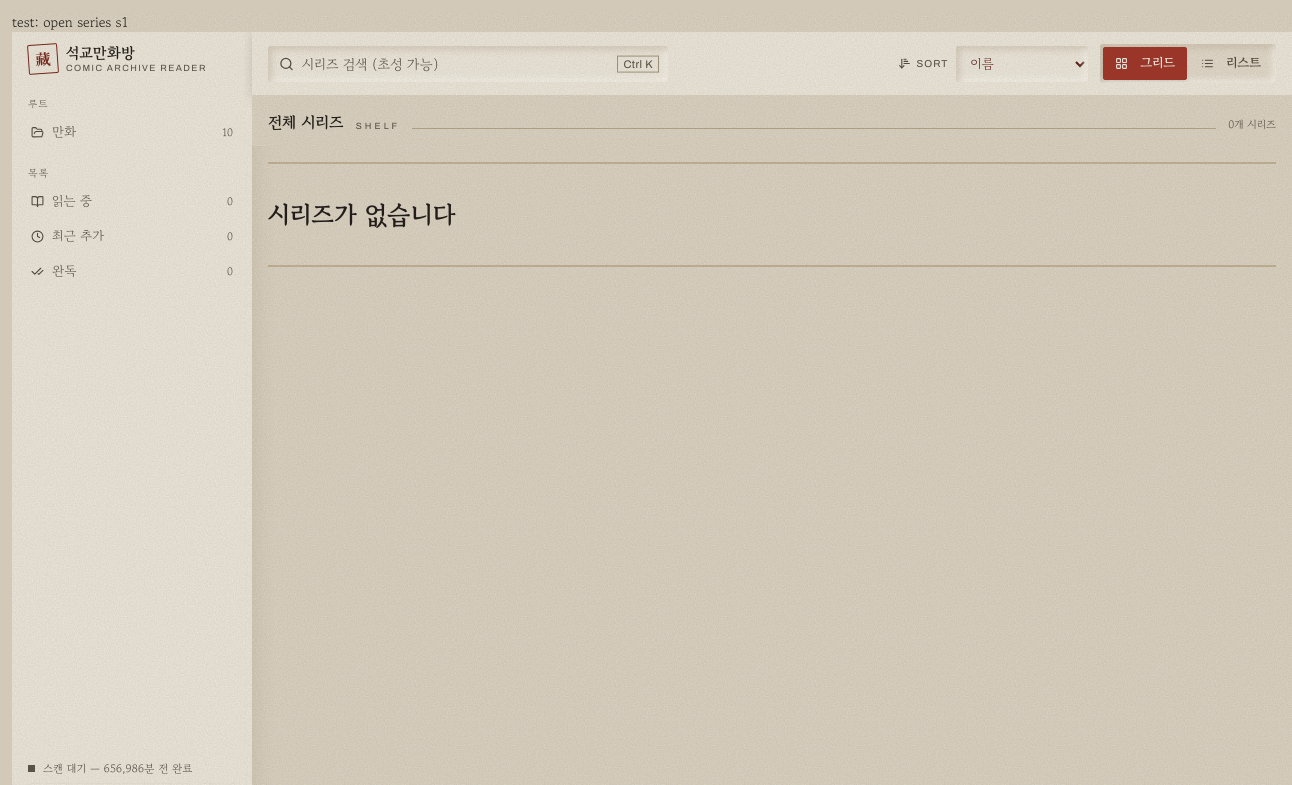
library preferences changed off the library screen (A-5 write-back) › lands on the library scoped to a sidebar root picked on a series screen, and writes it back
This screenshot has width=1292, height=785.
Click the link "test: open series s1".
click(70, 22)  # box x1=12 y1=12 x2=128 y2=32
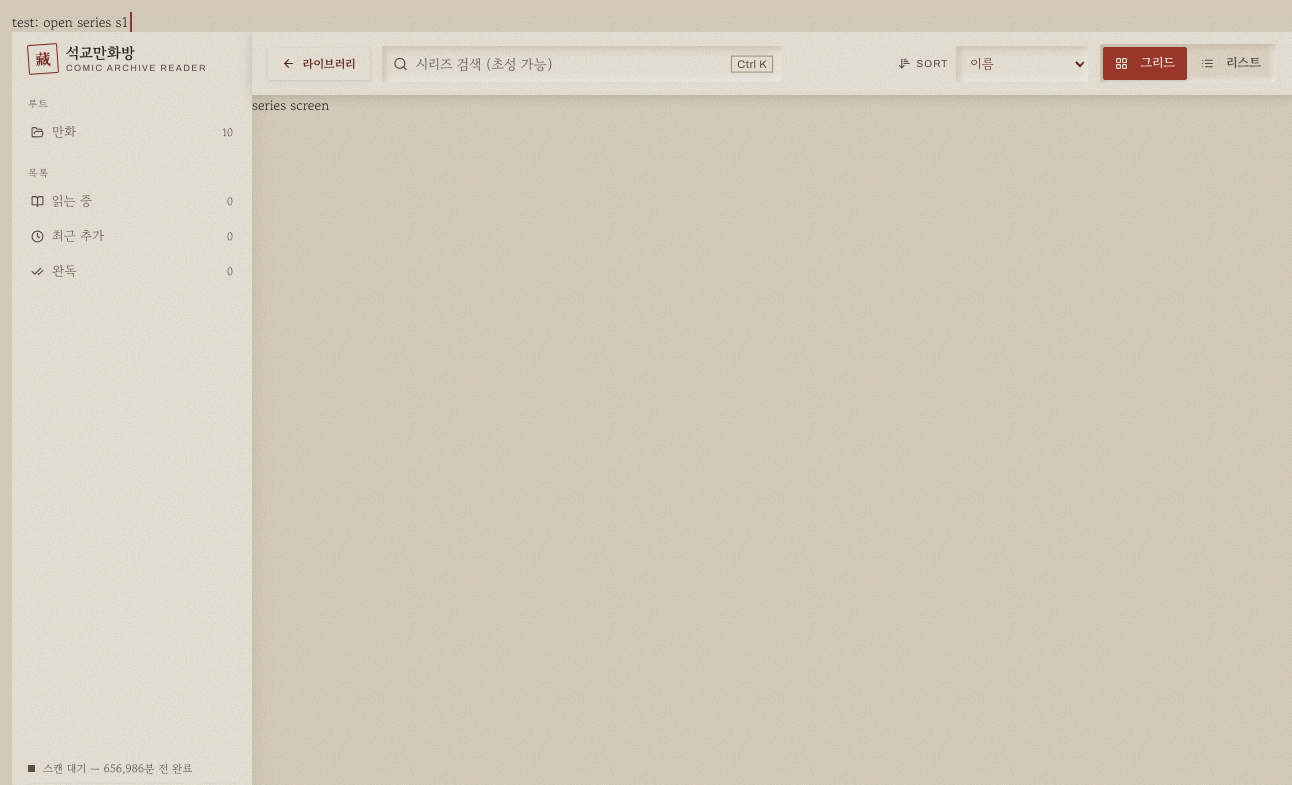
Expected: the text "series screen" is shown, x1=252 y1=95 x2=329 y2=115
Click the button "만화 10".
click(132, 133)  # box x1=20 y1=116 x2=244 y2=149
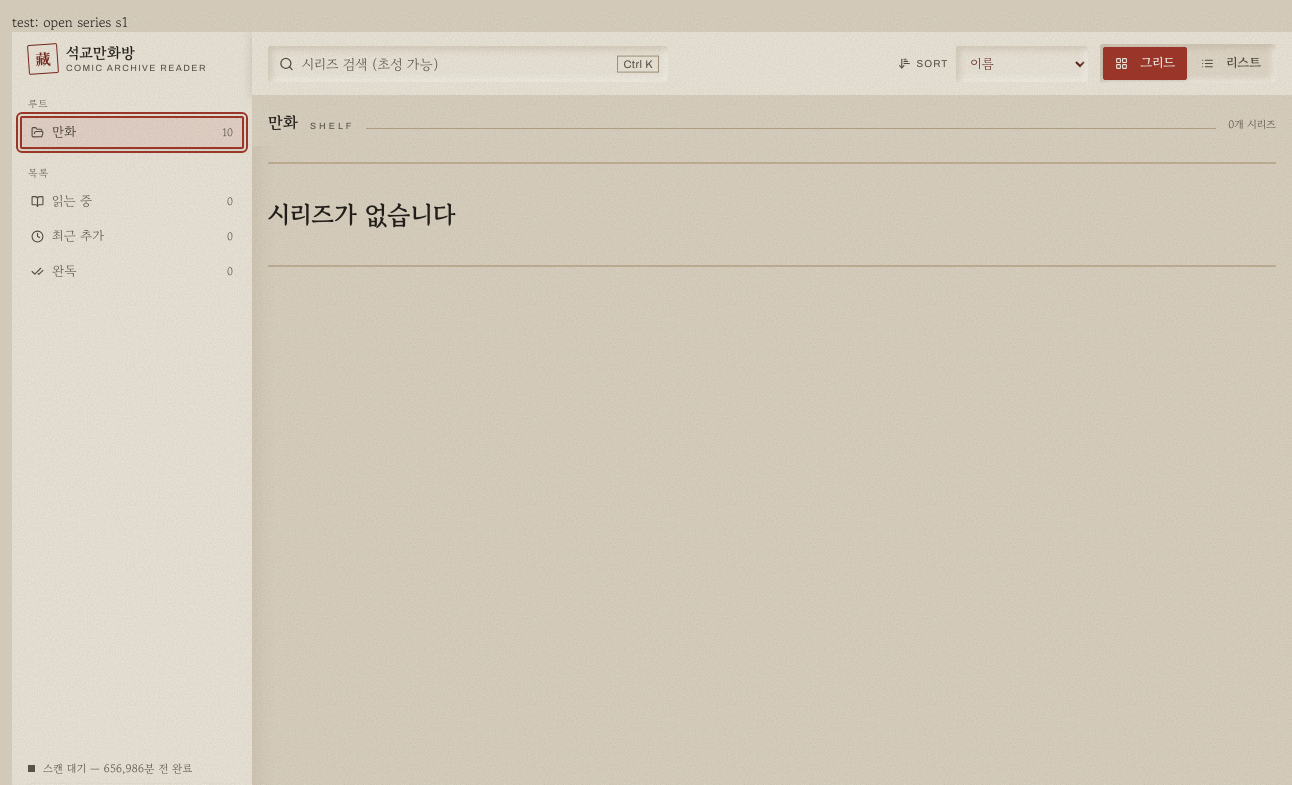
Expected: the text "series screen" is gone
